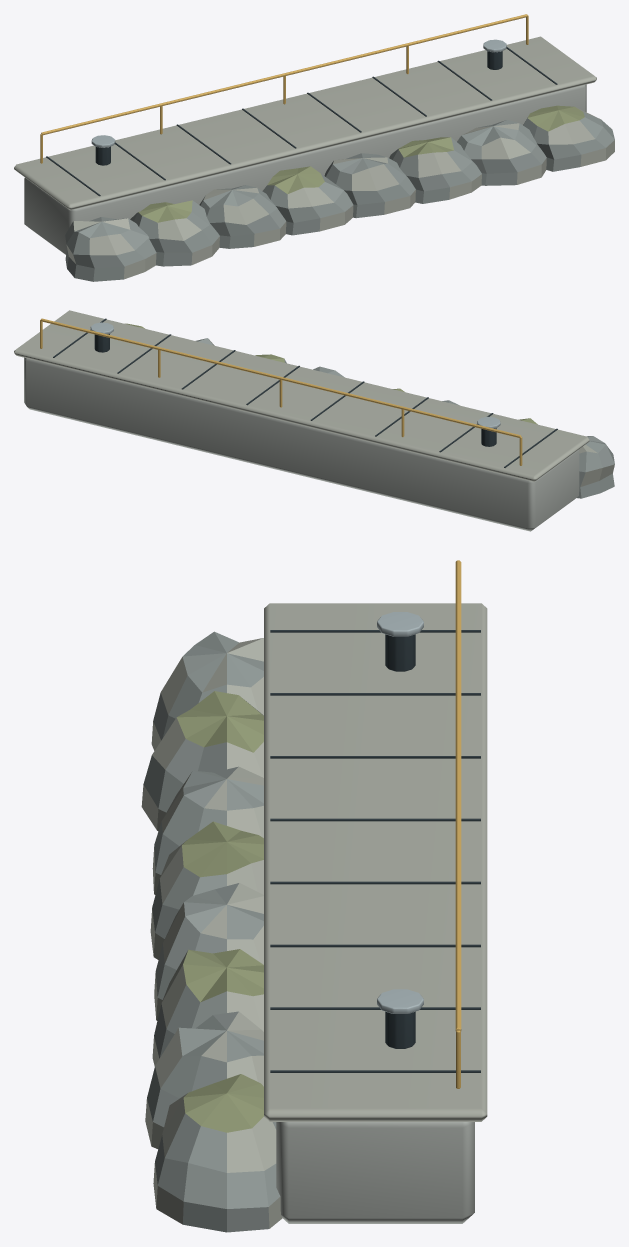
Rendered from HarborBreakwater.glb.
The picture shows the model from 3 angles, top to bottom: view 1: azimuth 30°, elevation 25°; view 2: azimuth 150°, elevation 25°; view 3: azimuth 270°, elevation 25°; orthographic projection. The views are drawn at different scales.
Visible parts, largest first — view 1: Walkable breakwater cap, Old sea wall core, Wave armor, Wave armor.007, Wave armor.003, Wave armor.006, Wave armor.005, Wave armor.001, Wave armor.004, Wave armor.002, Outer rail; view 2: Old sea wall core, Walkable breakwater cap, Outer rail, Wave armor; view 3: Walkable breakwater cap, Old sea wall core, Wave armor.007, Wave armor.001, Wave armor.006, Wave armor.005, Wave armor.003, Wave armor.004, Wave armor, Wave armor.002, Outer rail, Mooring bollard (+3 smaller).
Boxes of the visible parts, x1=… form: Walkable breakwater cap: x1=14, y1=36, x2=596, y2=210; Old sea wall core: x1=24, y1=84, x2=586, y2=254; Wave armor: x1=65, y1=217, x2=156, y2=281; Wave armor.007: x1=523, y1=105, x2=614, y2=171; Wave armor.003: x1=262, y1=166, x2=353, y2=235; Wave armor.006: x1=457, y1=119, x2=546, y2=185; Wave armor.005: x1=389, y1=137, x2=481, y2=203; Wave armor.001: x1=130, y1=200, x2=219, y2=266; Wave armor.004: x1=324, y1=153, x2=415, y2=218; Wave armor.002: x1=199, y1=185, x2=286, y2=248; Outer rail: x1=41, y1=14, x2=527, y2=135; Old sea wall core: x1=24, y1=357, x2=579, y2=531; Walkable breakwater cap: x1=14, y1=310, x2=589, y2=481; Outer rail: x1=41, y1=318, x2=521, y2=437; Wave armor: x1=577, y1=436, x2=614, y2=498; Walkable breakwater cap: x1=264, y1=603, x2=487, y2=1121; Old sea wall core: x1=276, y1=1122, x2=474, y2=1223; Wave armor.007: x1=153, y1=1074, x2=282, y2=1232; Wave armor.001: x1=141, y1=691, x2=263, y2=831; Wave armor.006: x1=145, y1=1011, x2=263, y2=1148; Wave armor.005: x1=152, y1=949, x2=263, y2=1066; Wave armor.003: x1=150, y1=821, x2=263, y2=959; Wave armor.004: x1=154, y1=883, x2=263, y2=1020; Wave armor: x1=151, y1=631, x2=263, y2=750; Wave armor.002: x1=152, y1=766, x2=263, y2=894; Outer rail: x1=455, y1=560, x2=461, y2=1030; Mooring bollard: x1=385, y1=634, x2=415, y2=671.
Bounding box in the file's own units: 15.01 × 2.47 × 4.18.
